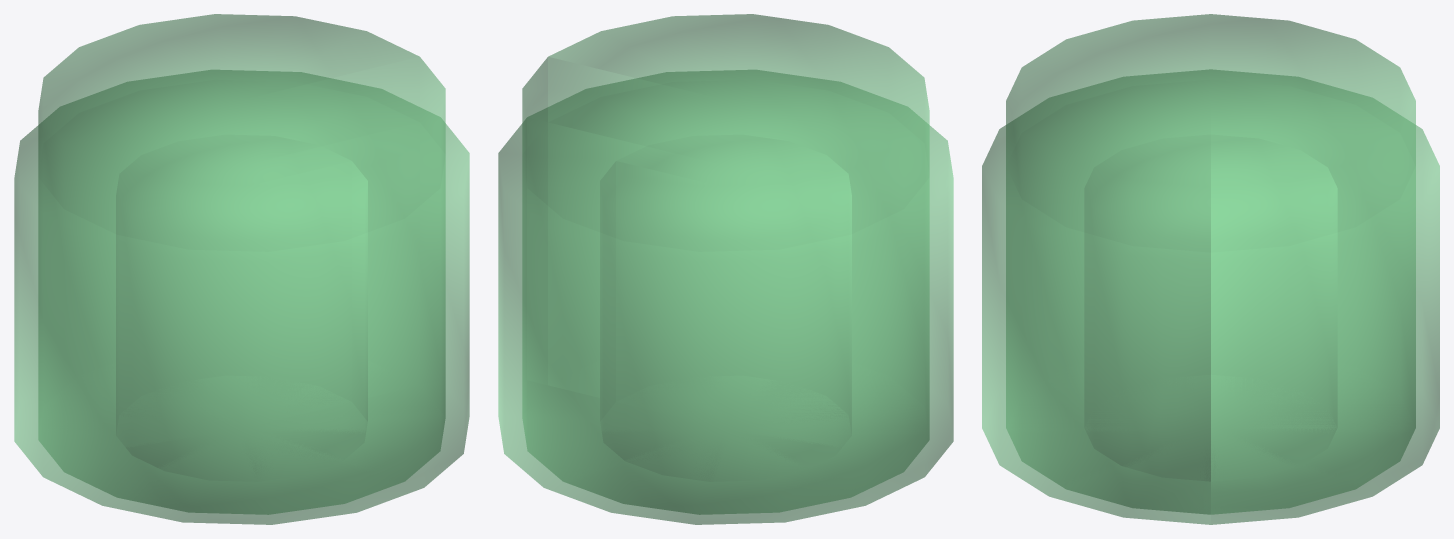
The model's file is prop_pots_col.glb.
3 renders of one model, left to right at view 1: azimuth 30°, elevation 25°; view 2: azimuth 150°, elevation 25°; view 3: azimuth 270°, elevation 25°, orthographic.
Visible parts, largest first — view 1: clay_rice_pot_col_0, aluminium_handi_col_0, brass_lota_col_0; view 2: clay_rice_pot_col_0, aluminium_handi_col_0, brass_lota_col_0; view 3: clay_rice_pot_col_0, aluminium_handi_col_0, brass_lota_col_0.
Boxes of the visible parts, box(x1,y1,x2,y2) form: clay_rice_pot_col_0: box(38, 14, 445, 514); aluminium_handi_col_0: box(14, 70, 469, 524); brass_lota_col_0: box(116, 135, 367, 481); clay_rice_pot_col_0: box(522, 14, 929, 514); aluminium_handi_col_0: box(498, 70, 953, 524); brass_lota_col_0: box(600, 135, 851, 481); clay_rice_pot_col_0: box(1006, 14, 1415, 514); aluminium_handi_col_0: box(982, 69, 1439, 524); brass_lota_col_0: box(1084, 135, 1337, 480).
Size of the model in its own units: 0.38 by 0.3 by 0.38.
